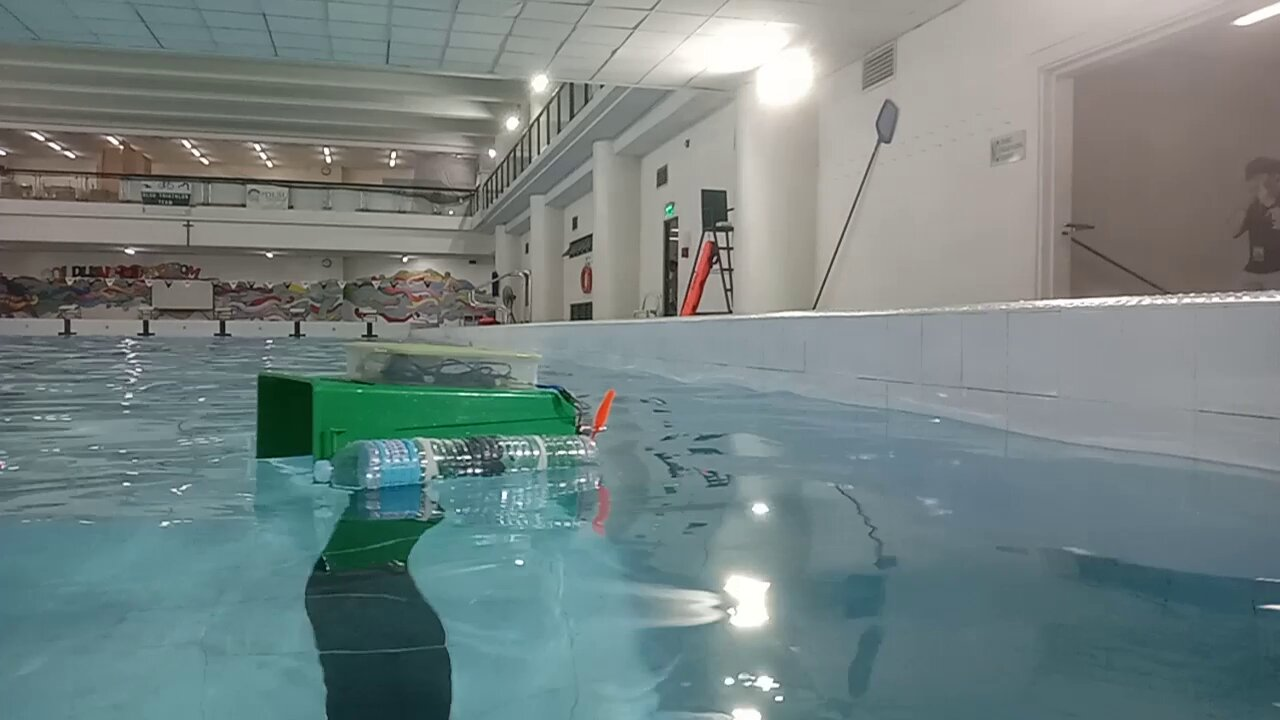drone: (256, 340, 615, 487)
